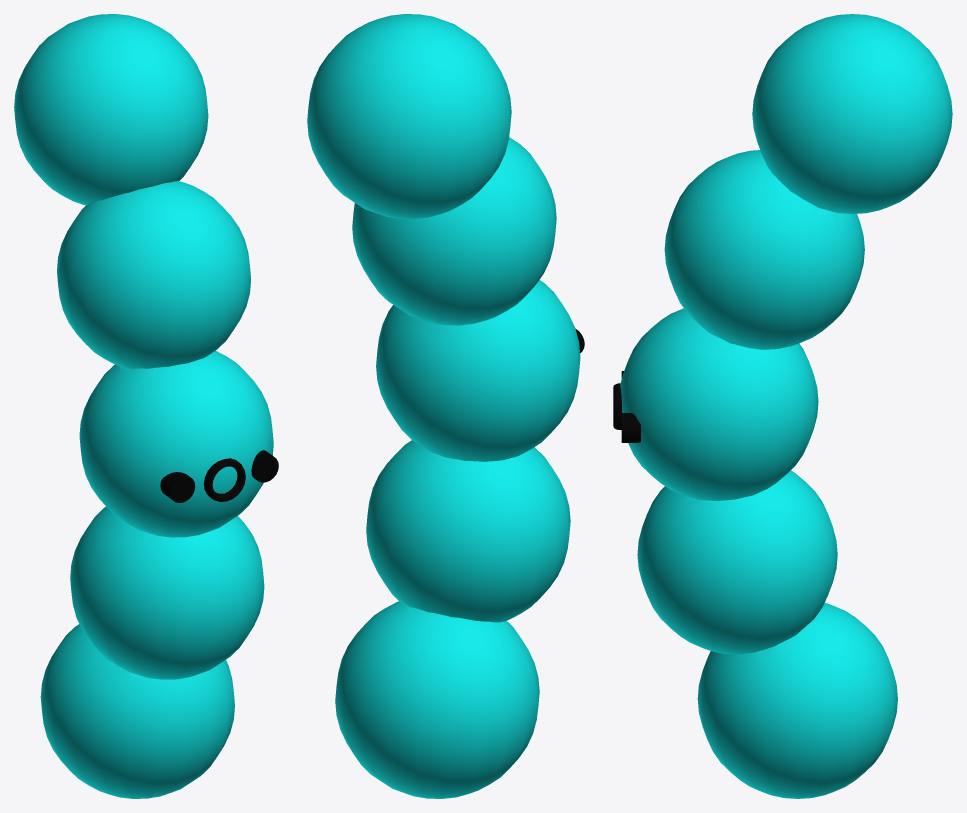
File: BLUE2.fbx
The picture shows the model from 3 angles, left to right: view 1: azimuth 30°, elevation 25°; view 2: azimuth 150°, elevation 25°; view 3: azimuth 270°, elevation 25°; orthographic projection. The views are drawn at different scales.
Parts seen in each view (by area): view 1: pSphere232; view 2: pSphere232; view 3: pSphere232.
Part boxes in pixels (x1,y1,x2,y2): pSphere232: [14, 14, 278, 798]; pSphere232: [307, 14, 584, 798]; pSphere232: [613, 14, 952, 798].
Bounding box in the file's own units: 4 × 16.89 × 6.77.
